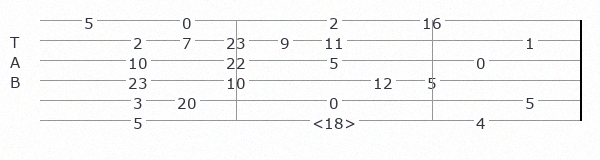0: (182, 13, 196, 28), (329, 93, 343, 108), (476, 53, 490, 68)
1: (525, 33, 539, 48)
10: (128, 53, 152, 68), (226, 73, 250, 88)
11: (324, 33, 348, 48)
12: (373, 73, 397, 88)
16: (422, 13, 446, 28)
2: (133, 33, 147, 48), (329, 13, 343, 28)
20: (177, 93, 201, 108)
22: (226, 53, 250, 68)
23: (128, 73, 152, 88), (226, 33, 250, 48)
3: (133, 93, 147, 108)
4: (476, 113, 490, 128)
5: (84, 13, 98, 28), (133, 113, 147, 128), (329, 53, 343, 68), (427, 73, 441, 88), (525, 93, 539, 108)
7: (182, 33, 196, 48)
9: (280, 33, 294, 48)
harmonic: (312, 113, 360, 128)
